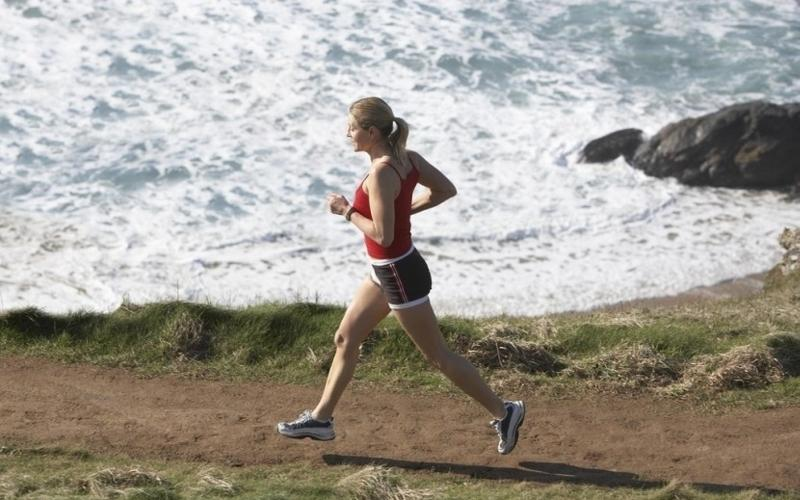person: (277, 97, 527, 458)
